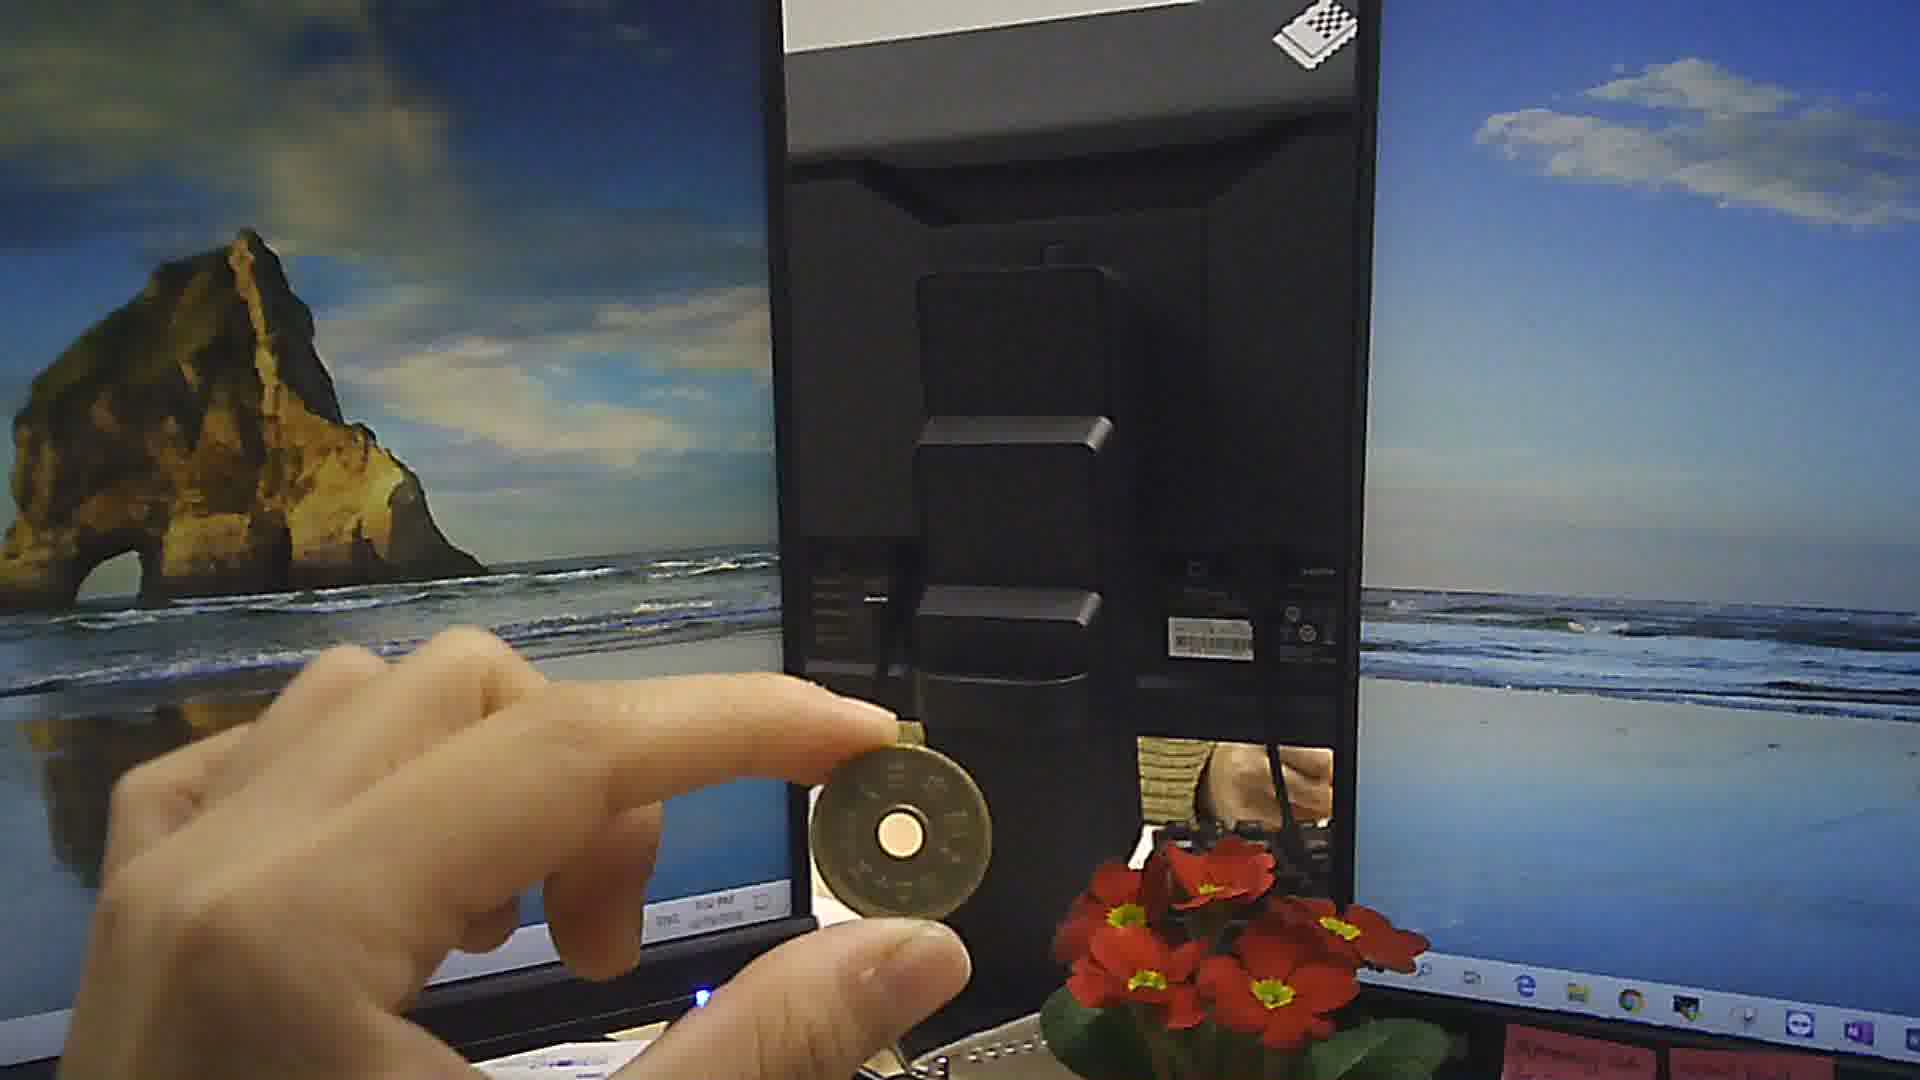5 Yen: (818, 746, 998, 930)
